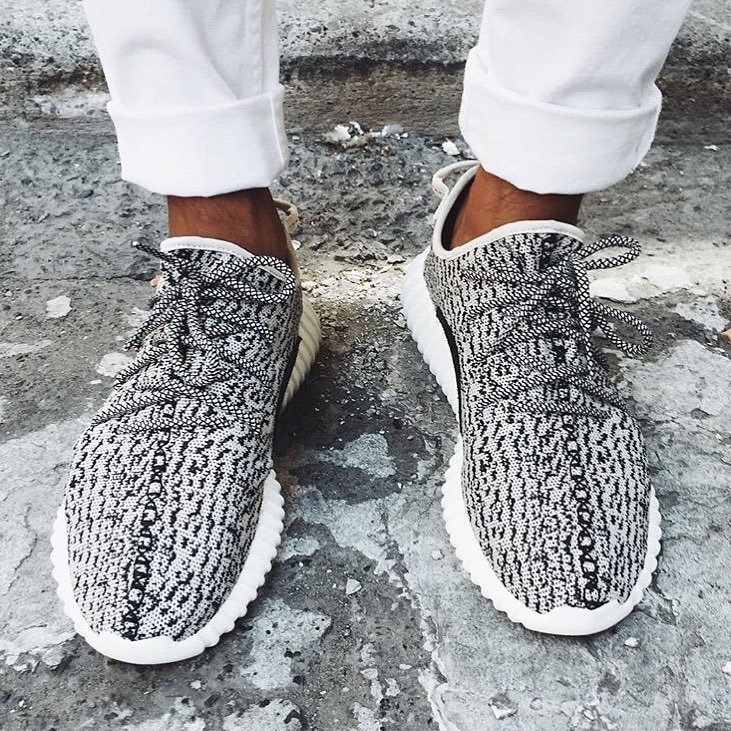sneaker: (371, 134, 695, 687), (36, 169, 351, 701)
